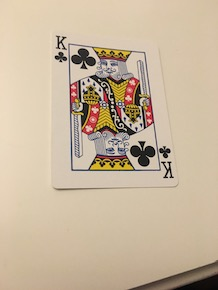KingOfClubs: (44, 25, 183, 190)
